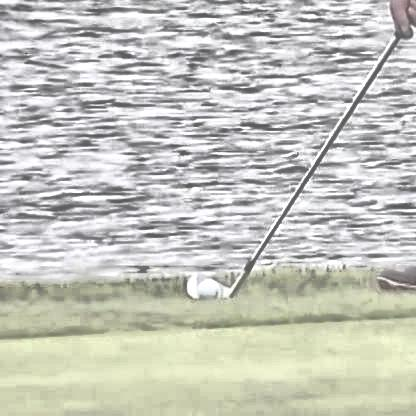golfball: (192, 278, 222, 300)
